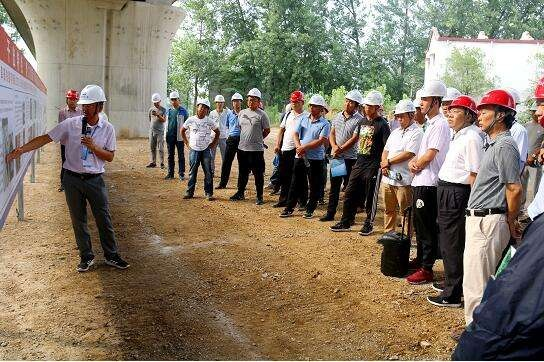red: (476, 87, 514, 134), (446, 93, 475, 131), (289, 90, 304, 113), (64, 86, 79, 108)
white: (77, 82, 107, 120), (419, 79, 444, 117), (392, 99, 417, 130), (362, 88, 382, 118), (343, 89, 361, 116), (307, 91, 325, 117), (245, 86, 263, 110), (195, 99, 211, 120), (230, 90, 243, 110), (168, 90, 181, 107), (213, 93, 225, 110), (150, 91, 162, 107)
